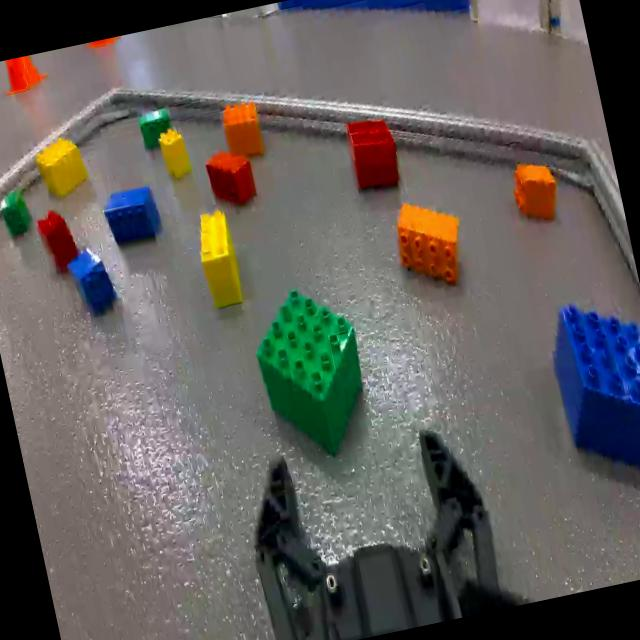block: (192, 208, 248, 310), (33, 134, 91, 200), (158, 126, 194, 180)
blue: (541, 287, 640, 493), (101, 182, 166, 248), (66, 242, 119, 320)
cone: (0, 52, 48, 98), (85, 36, 122, 52)
green: (246, 281, 376, 458), (0, 188, 35, 243), (138, 107, 176, 148)
metal barrier: (0, 85, 640, 294)
orange: (390, 190, 470, 296), (508, 156, 564, 231), (217, 98, 264, 162)
red goal: (340, 110, 403, 194), (202, 141, 258, 209), (34, 204, 80, 272)
river: (276, 0, 470, 47)
storage cube: (458, 0, 589, 69)
